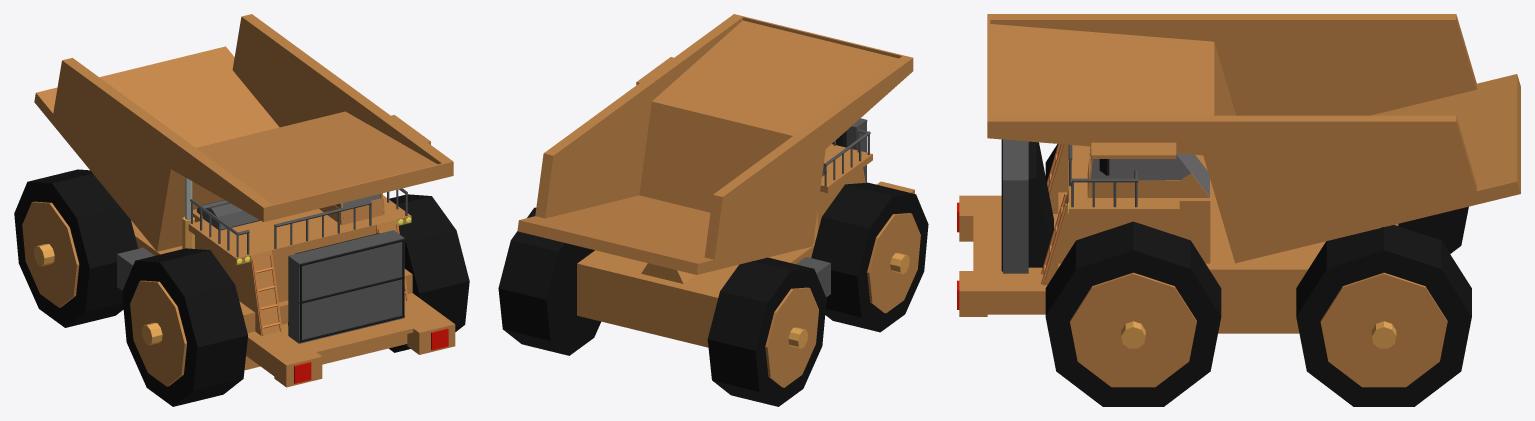
The model's file is Dump Truck.fbx.
3 renders of one model, left to right at view 1: azimuth 30°, elevation 25°; view 2: azimuth 150°, elevation 25°; view 3: azimuth 270°, elevation 25°, orthographic. The views are drawn at different scales.
Parts seen in each view (by area): view 1: Cube.009, Cylinder, Cube.011, Cylinder.003, Cube, Cylinder.001, Cube.006, Cube.015, Cube.014, Cube.013, Cylinder.010, Cylinder.009 (+18 smaller); view 2: Cube.009, Cube.010, Cylinder.003, Cube.011, Cube.003, Cylinder, Cylinder.002, Cube.014, Cube.012, Cube.013, Cube.015, Cylinder.009 (+11 smaller); view 3: Cube.009, Cube.012, Cube.014, Cylinder.001, Cylinder.002, Cube.013, Cube.011, Cylinder.007, Cylinder.008, Cube.015, Cube.003, Cube.016 (+23 smaller).
Part boxes in pixels (bbox=[...]): Cube.009: bbox=[166, 111, 453, 221]; Cylinder: bbox=[122, 248, 247, 406]; Cube.011: bbox=[34, 46, 279, 244]; Cylinder.003: bbox=[14, 169, 138, 327]; Cube: bbox=[288, 230, 404, 343]; Cylinder.001: bbox=[389, 194, 469, 352]; Cube.006: bbox=[193, 209, 397, 306]; Cube.015: bbox=[62, 58, 176, 181]; Cube.014: bbox=[52, 62, 163, 245]; Cube.013: bbox=[241, 14, 356, 117]; Cylinder.010: bbox=[22, 201, 79, 307]; Cylinder.009: bbox=[130, 280, 186, 386]; Cube.009: bbox=[652, 20, 913, 152]; Cube.010: bbox=[639, 101, 825, 247]; Cylinder.003: bbox=[707, 257, 826, 406]; Cube.011: bbox=[517, 195, 807, 274]; Cube.003: bbox=[577, 244, 814, 347]; Cylinder: bbox=[811, 182, 928, 332]; Cylinder.002: bbox=[498, 207, 600, 355]; Cube.014: bbox=[704, 175, 816, 265]; Cube.012: bbox=[535, 133, 647, 218]; Cube.013: bbox=[544, 81, 652, 201]; Cube.015: bbox=[713, 122, 821, 242]; Cylinder.009: bbox=[867, 213, 920, 313]; Cube.009: bbox=[987, 24, 1214, 155]; Cube.012: bbox=[1213, 116, 1476, 247]; Cube.014: bbox=[1225, 14, 1476, 115]; Cylinder.001: bbox=[1045, 221, 1221, 406]; Cylinder.002: bbox=[1296, 225, 1471, 406]; Cube.013: bbox=[1212, 115, 1456, 178]; Cube.011: bbox=[1231, 74, 1520, 263]; Cylinder.007: bbox=[1070, 272, 1196, 387]; Cylinder.008: bbox=[1320, 272, 1447, 387]; Cube.015: bbox=[1212, 14, 1456, 76]; Cube.003: bbox=[1058, 180, 1398, 333]; Cube.016: bbox=[987, 115, 1211, 137].
Bounding box in the file's own units: 564 × 408 × 796.
